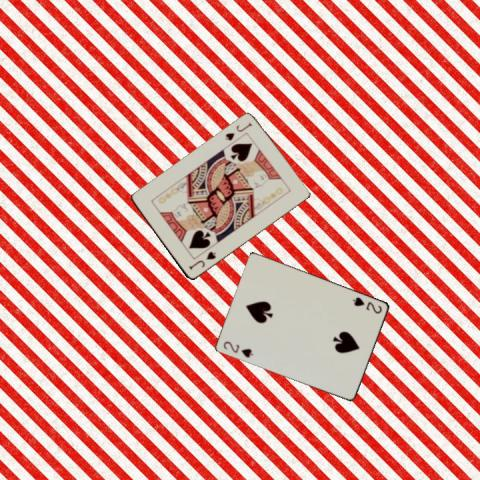2s: (350, 294, 383, 315), (221, 338, 254, 359)
Js: (222, 119, 253, 143), (186, 249, 217, 272)
